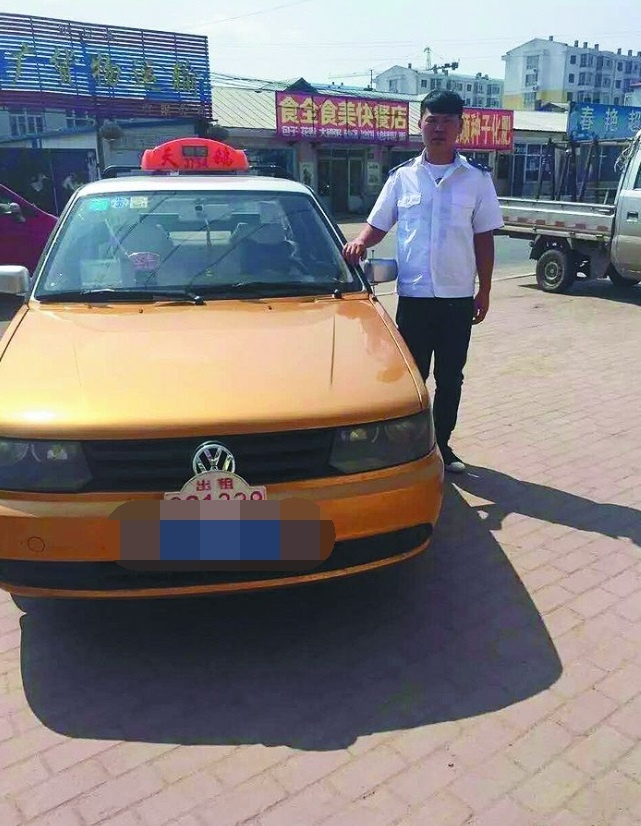taxi: (7, 137, 438, 617)
